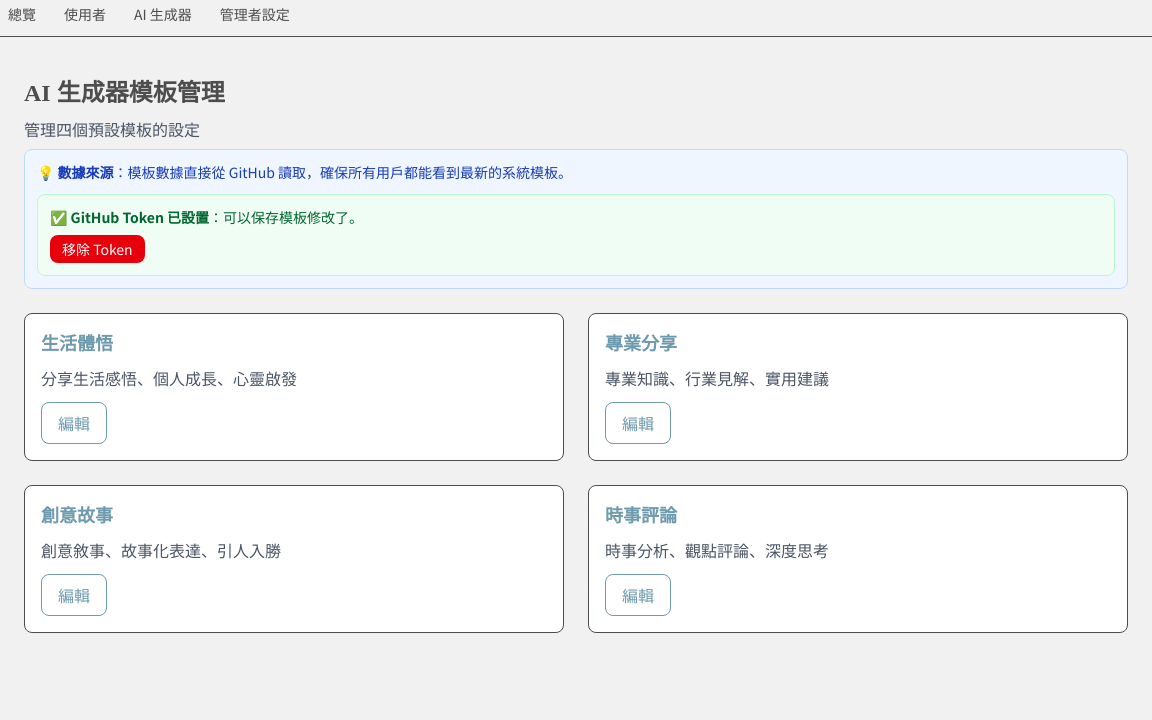
it: AIGenerator 模板持久化功能測試 › 取消編輯應該恢復到保存的狀態
The width and height of the screenshot is (1152, 720).
Click the button "編輯" below "分享生活感悟、個人成長、心靈啟發" at (74, 423), box [41,402,107,444]
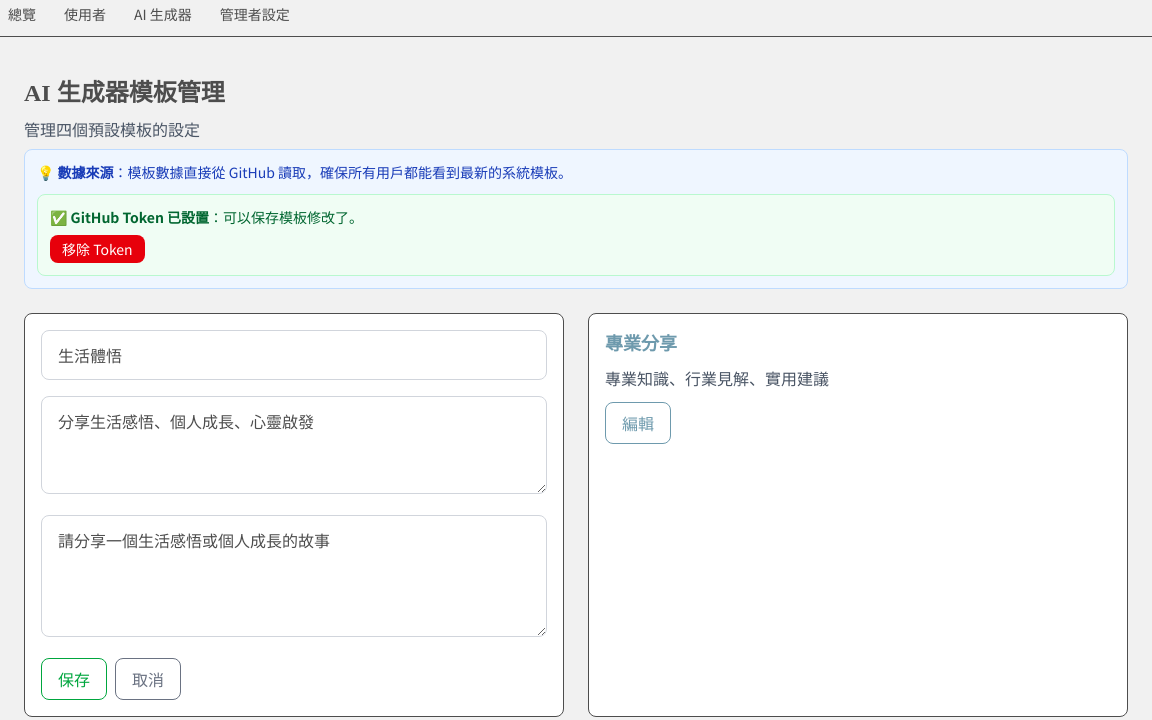
Replace the text in the field showing "生活體悟" with "修改後的標題" at (294, 355), box [41,330,547,380]
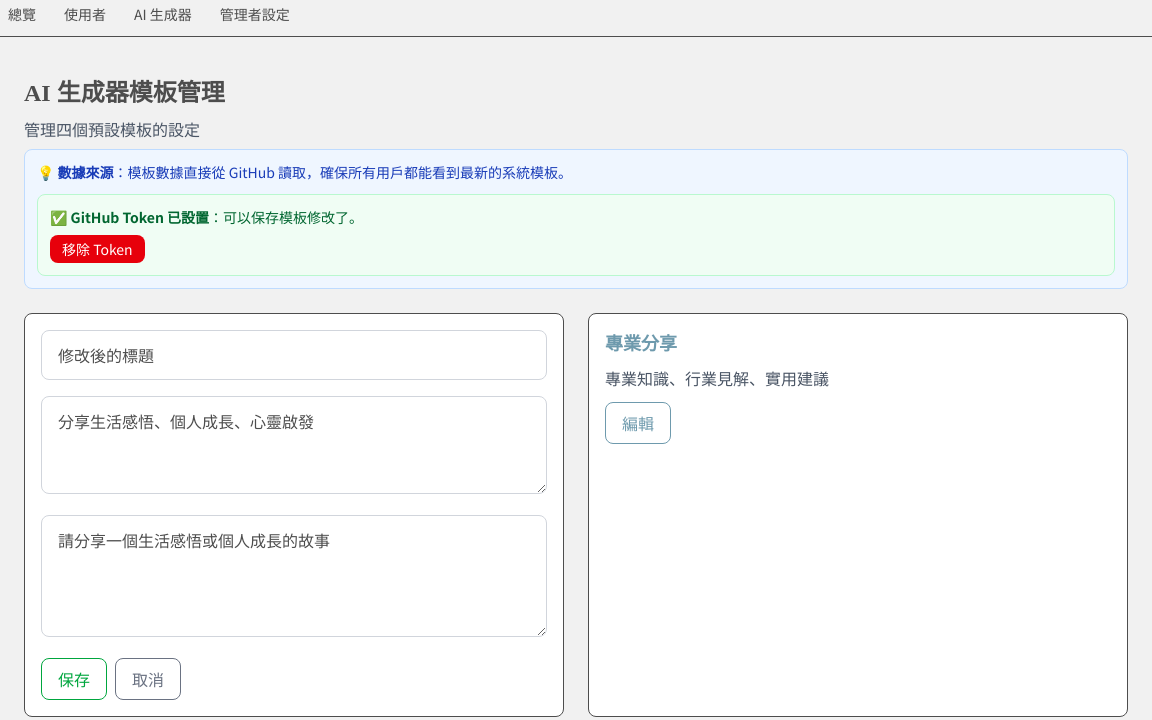
Click the button "取消" at (148, 679), box [115,658,181,700]
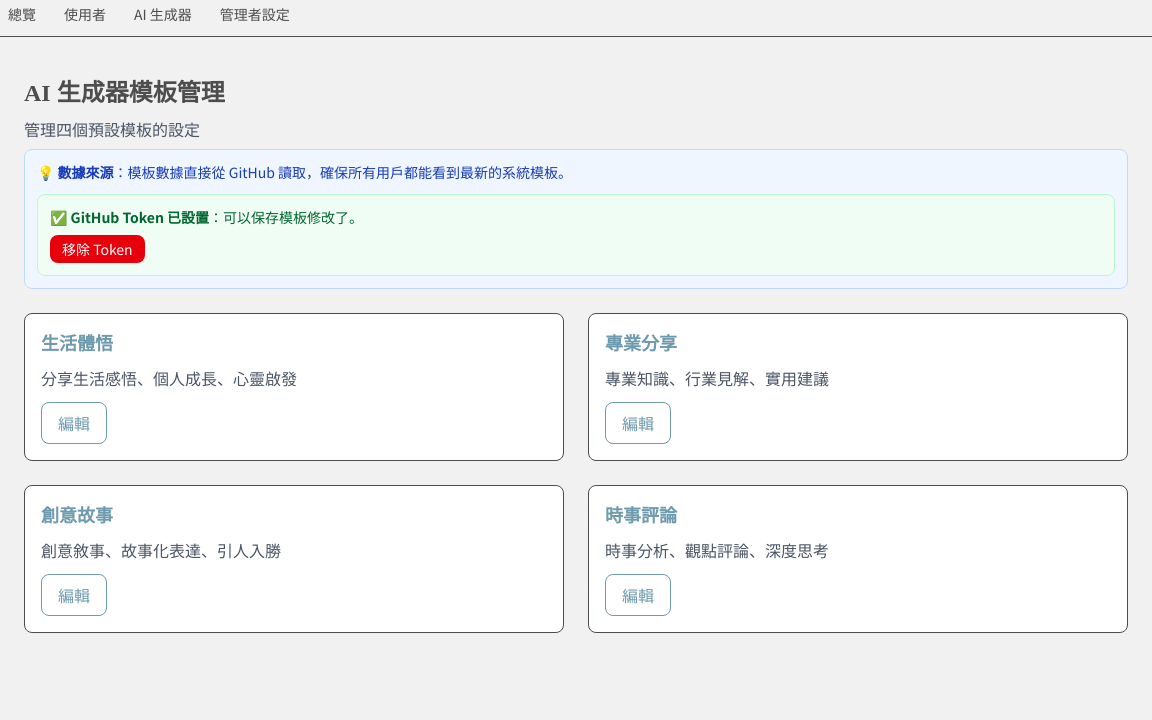
Expected: the heading "生活體悟" is shown, [41,334,113,354]
Expected: the text "分享生活感悟、個人成長、心靈啟發" is shown, [41,366,297,390]
